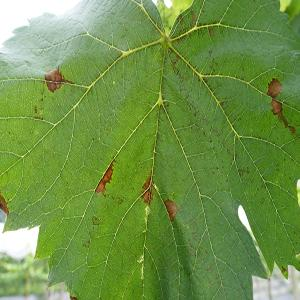Folha: (0, 0, 299, 298)
Fungo: (266, 78, 296, 134), (44, 65, 88, 93), (94, 160, 114, 196), (45, 66, 63, 92), (266, 77, 282, 99), (141, 176, 153, 205), (164, 198, 178, 221), (0, 189, 9, 218), (269, 98, 282, 114), (94, 179, 107, 195), (142, 176, 152, 190), (92, 216, 100, 226), (208, 27, 214, 37)
